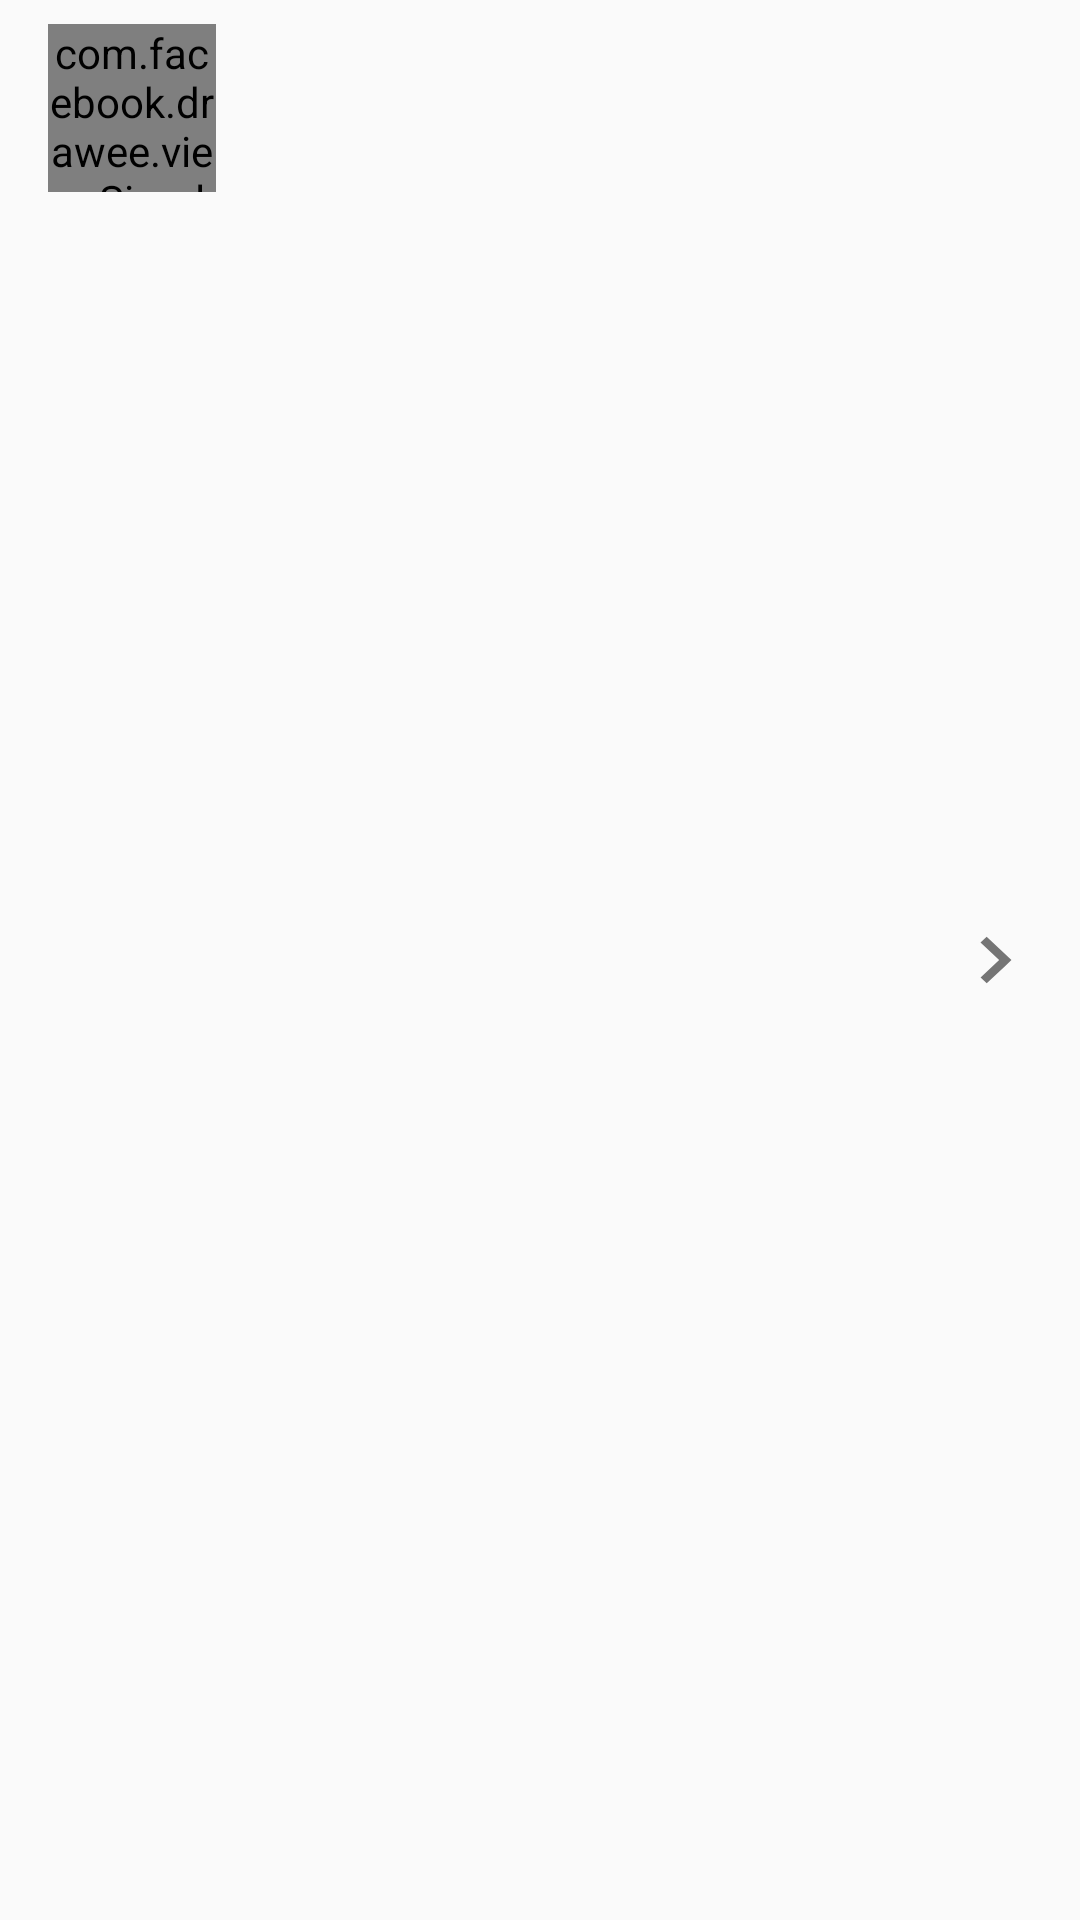

Where to tap for icons on this 1080*1920 app screen, as point (x, y):
more right arrow: point (995, 960)
